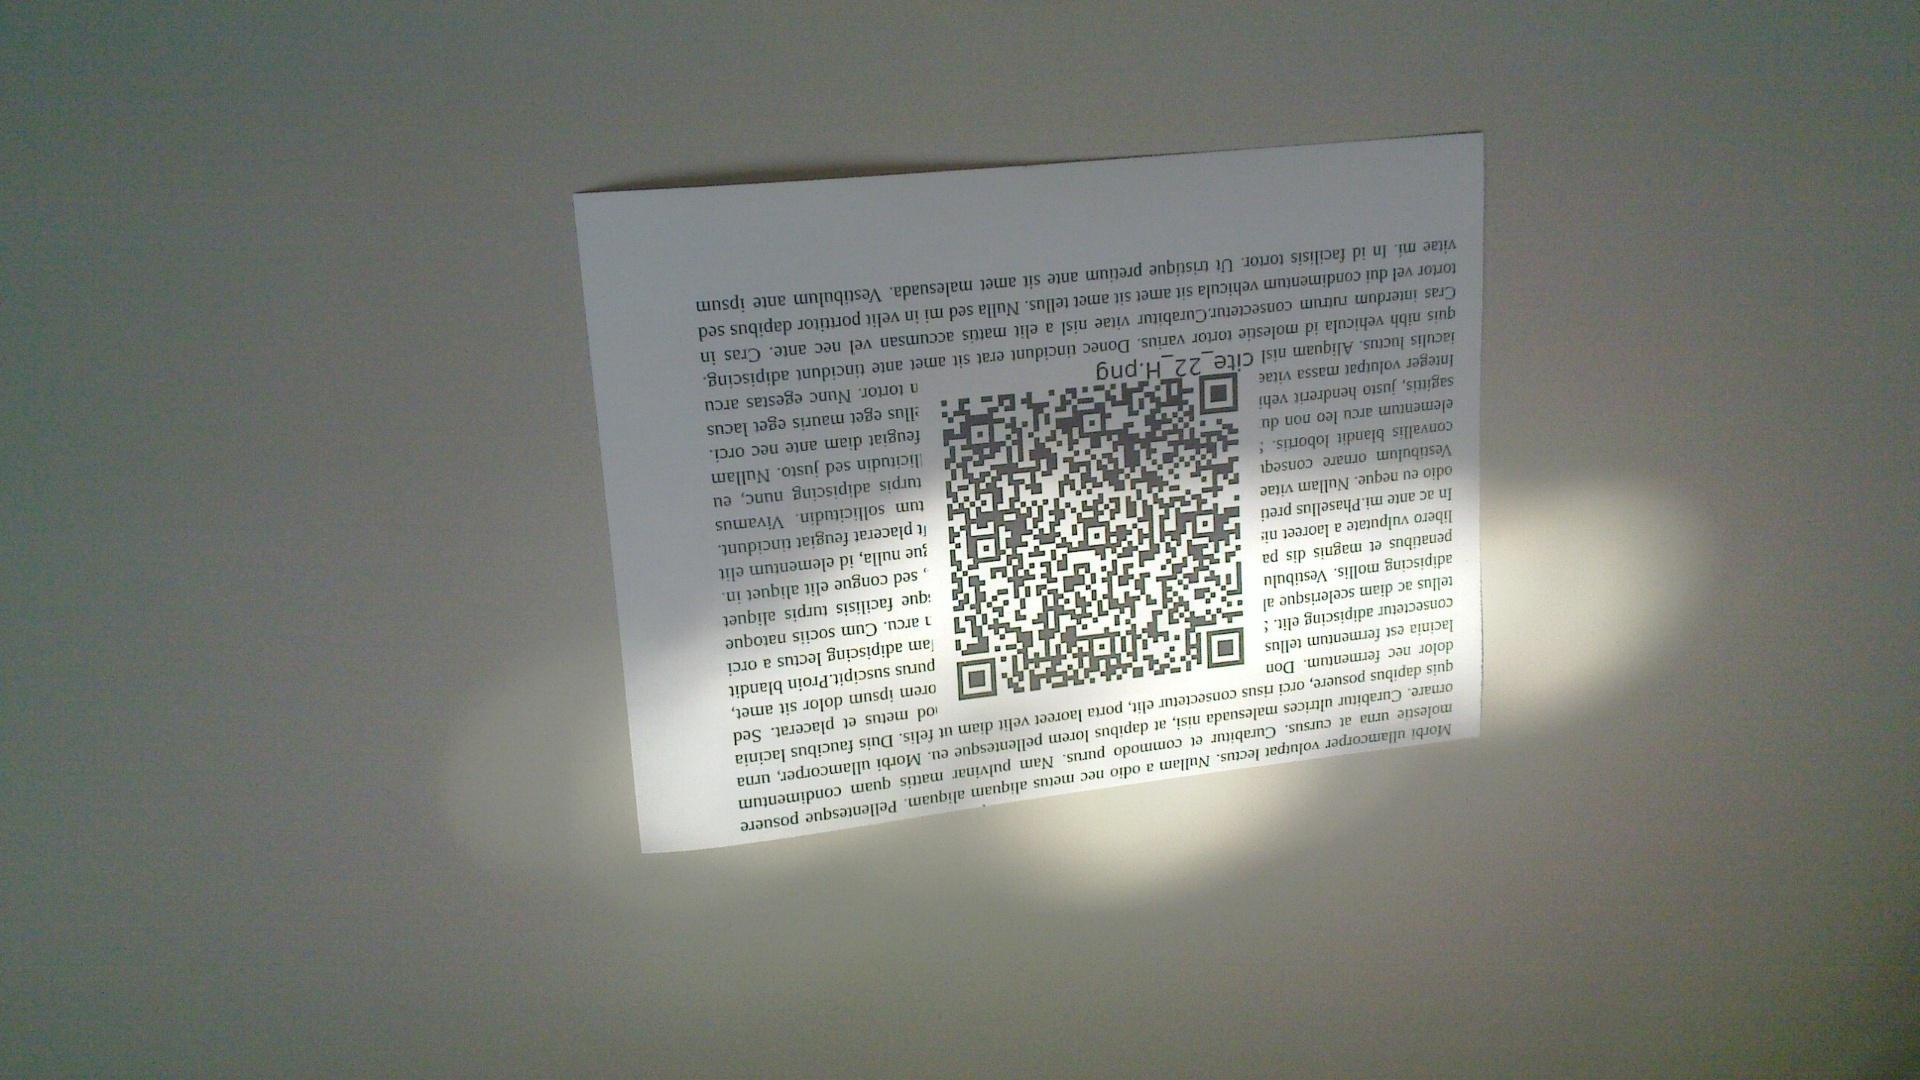Finder pattern: (949, 651, 1001, 704), (1193, 365, 1244, 419), (1203, 621, 1247, 673)
